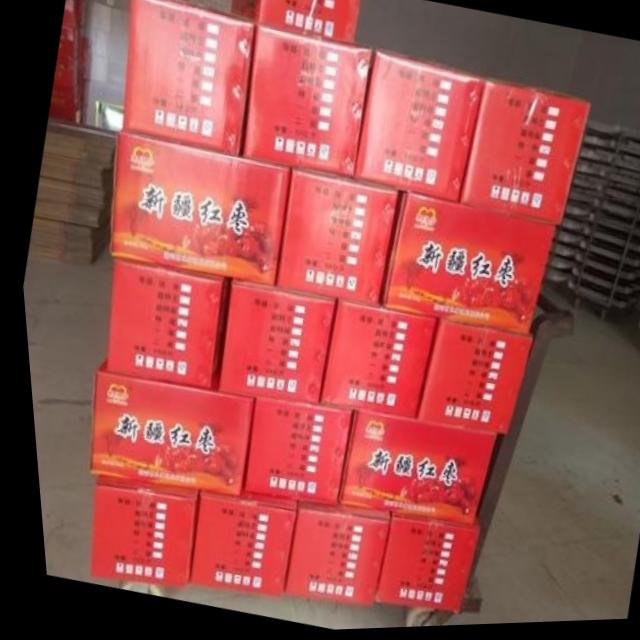box: (105, 132, 288, 287), (376, 194, 551, 336), (82, 360, 246, 496), (119, 0, 254, 158), (350, 50, 483, 208), (239, 27, 370, 180), (455, 82, 588, 230), (331, 410, 488, 525), (270, 171, 395, 308), (99, 259, 225, 390), (212, 282, 329, 408), (313, 303, 430, 418), (410, 323, 527, 437), (81, 474, 190, 588), (236, 399, 343, 508), (180, 490, 288, 597), (274, 502, 380, 608), (365, 513, 472, 617), (229, 0, 360, 45), (51, 58, 76, 86), (49, 86, 76, 111), (56, 28, 77, 58), (61, 0, 79, 28), (46, 110, 78, 123)
